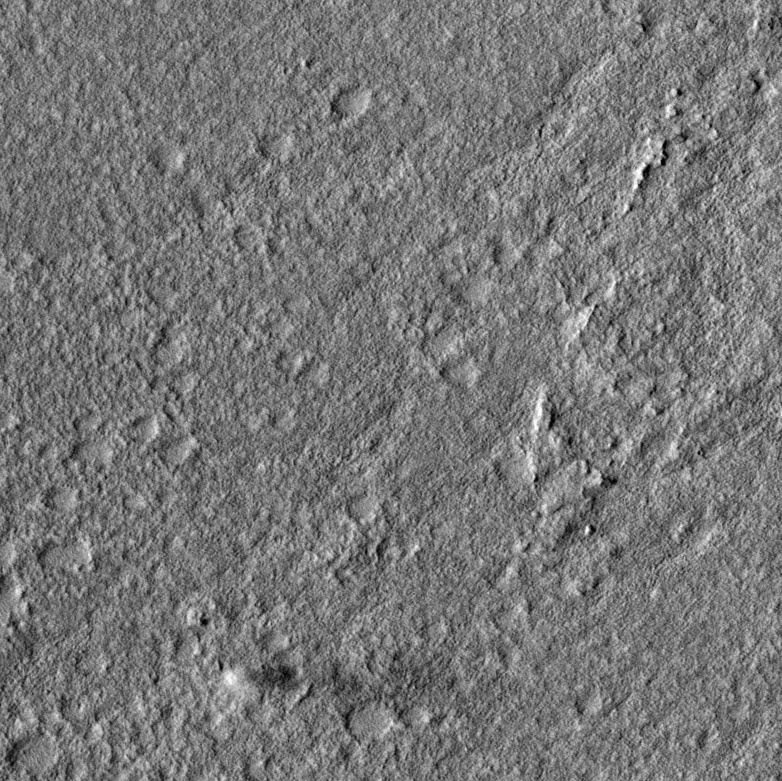dust_devil: (217, 648, 431, 733)
